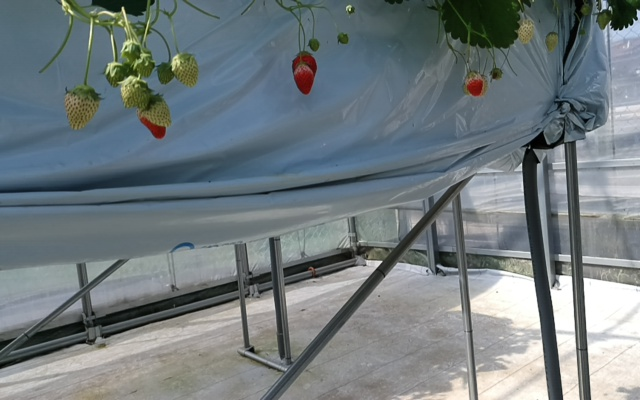GreenStrawberry: (62, 82, 101, 133), (134, 93, 173, 141), (172, 51, 200, 88), (118, 74, 147, 108), (104, 59, 130, 87), (516, 19, 535, 46), (154, 61, 174, 86), (543, 29, 560, 54)
MatureStrawberry: (288, 48, 318, 92), (295, 65, 314, 98), (466, 68, 482, 97)
